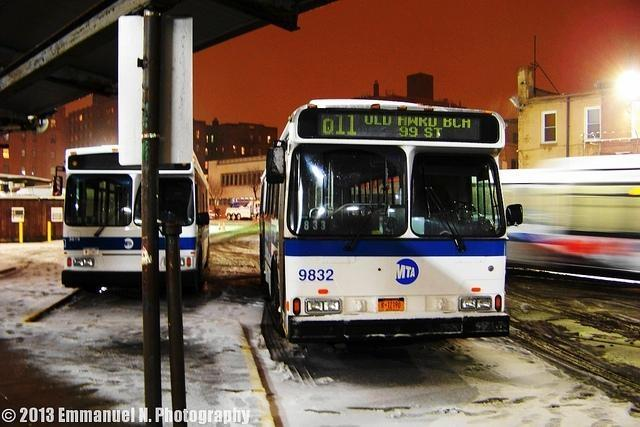bus: (257, 102, 524, 340), (57, 144, 213, 304)
truck: (225, 199, 261, 220)
